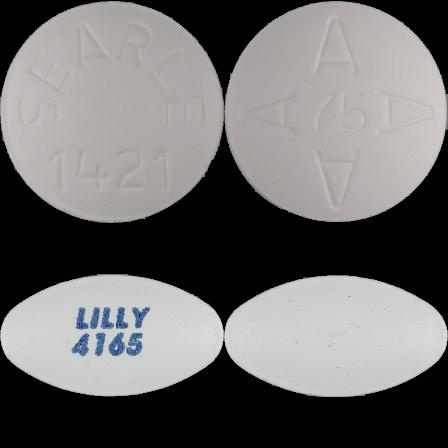54868-4165: (0, 0, 224, 224)
